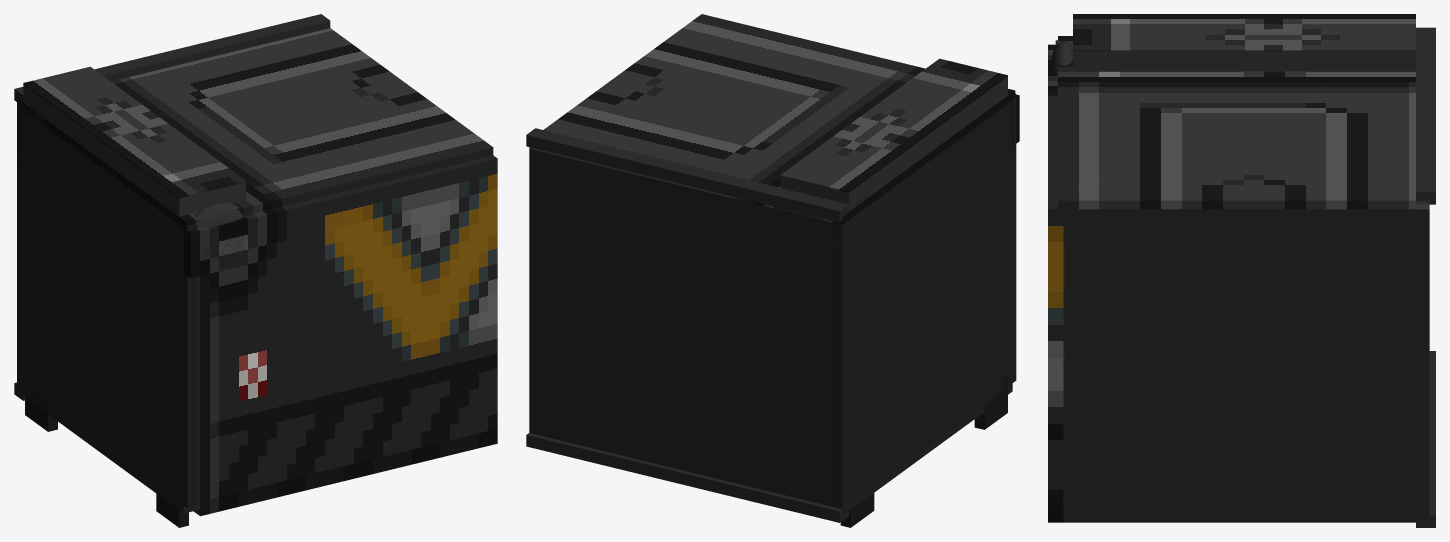
Rendered from CMU3DFreightAU14ContainerTartarusLeftBlackWY.glb.
3 renders of one model, left to right at view 1: azimuth 30°, elevation 25°; view 2: azimuth 150°, elevation 25°; view 3: azimuth 270°, elevation 25°, orthographic. The views are drawn at different scales.
Visible parts, largest first — view 1: painted front panel, closed cargo shell, source-painted lid, source-painted locking strap, outer end wall, outer lid strap, rear horizontal frame, corner lifting foot (×2), corner frame upright, rounded strap end; view 2: closed cargo shell, outer end wall, source-painted lid, rear horizontal frame (×2), source-painted locking strap, outer lid strap, corner lifting foot; view 3: closed cargo shell, source-painted lid, source-painted locking strap, outer lid strap, painted front panel, rear horizontal frame (×2), rounded strap end.
Boxes of the visible parts, x1,y1,x2,y2 form: painted front panel: (183,155,497,516); closed cargo shell: (17,108,200,513); source-painted lid: (17,28,493,229); source-painted locking strap: (23,66,246,197); outer end wall: (17,103,196,507); outer lid strap: (23,84,246,216); rear horizontal frame: (14,14,330,106); corner lifting foot (×2): (25,379,188,527); corner frame upright: (30,104,42,385); rounded strap end: (194,202,243,227); closed cargo shell: (529,147,1012,515); outer end wall: (832,93,1016,507); source-painted lid: (529,14,1015,224); rear horizontal frame (×2): (526,128,848,522); source-painted locking strap: (780,58,1007,192); outer lid strap: (780,76,1007,211); corner lifting foot: (974,374,1007,429); closed cargo shell: (1063,209,1429,522); source-painted lid: (1058,36,1429,209); source-painted locking strap: (1073,14,1415,50); outer lid strap: (1073,51,1415,71); painted front panel: (1048,44,1064,522); rear horizontal frame (×2): (1416,27,1435,527); rounded strap end: (1050,40,1072,75).
Bounding box in the file's own units: 1 × 1.03 × 0.995.
10 materials, 3 textured.
